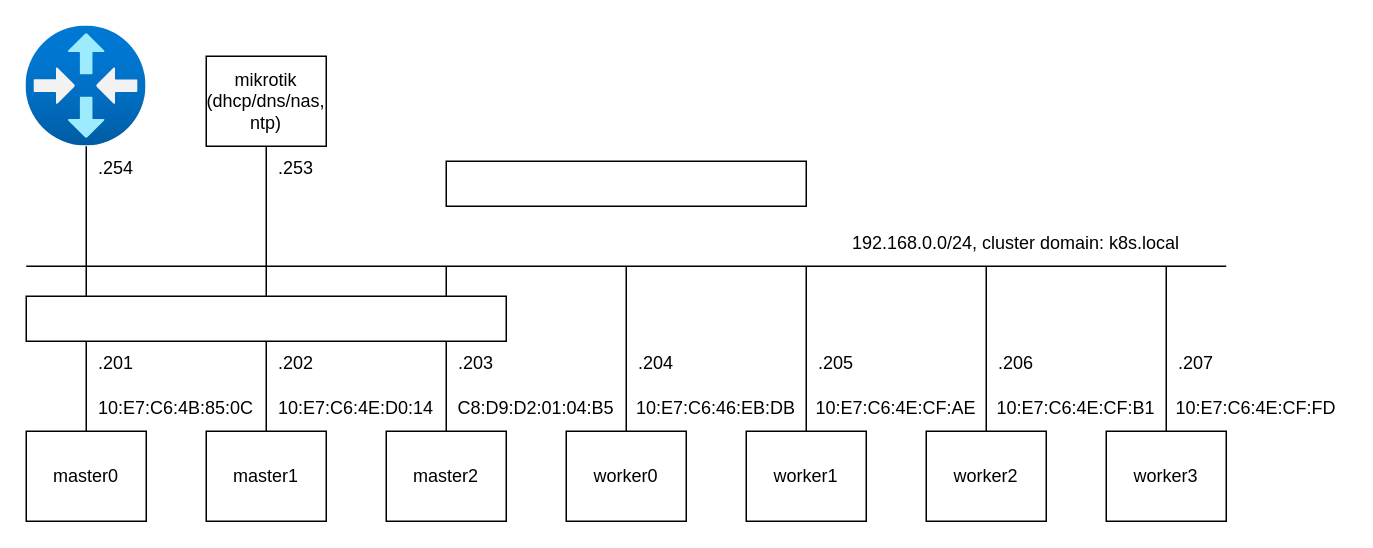
Some shapes in this 1373 by 548 pixel diagram are drawn without their labels. Each missing label, with the centre of its shape:
"Cilium LB Pool, 192.168.0.208/28" goes at (625,183).
"VIP: api.k8s.local, 192.168.0.200" goes at (265,318).
